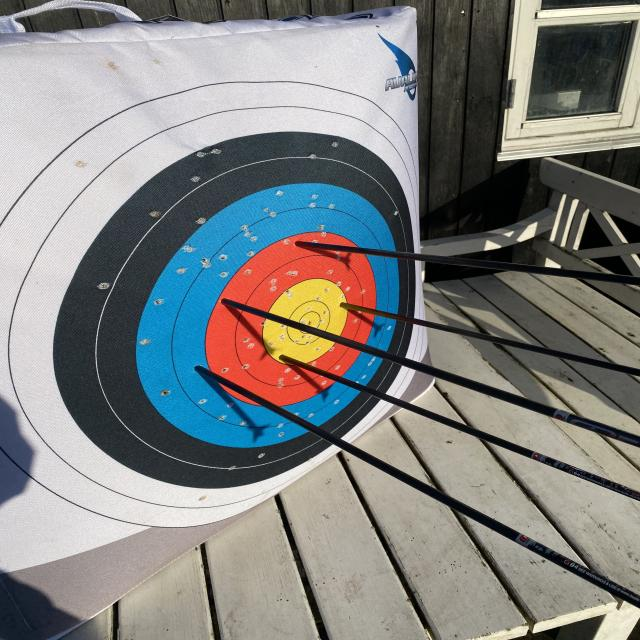Arrow_Blue: (188, 357, 213, 385)
Arrow_Red: (204, 289, 246, 309), (286, 231, 311, 258)
Arrow_Yellow: (272, 348, 297, 369), (331, 298, 357, 318)
